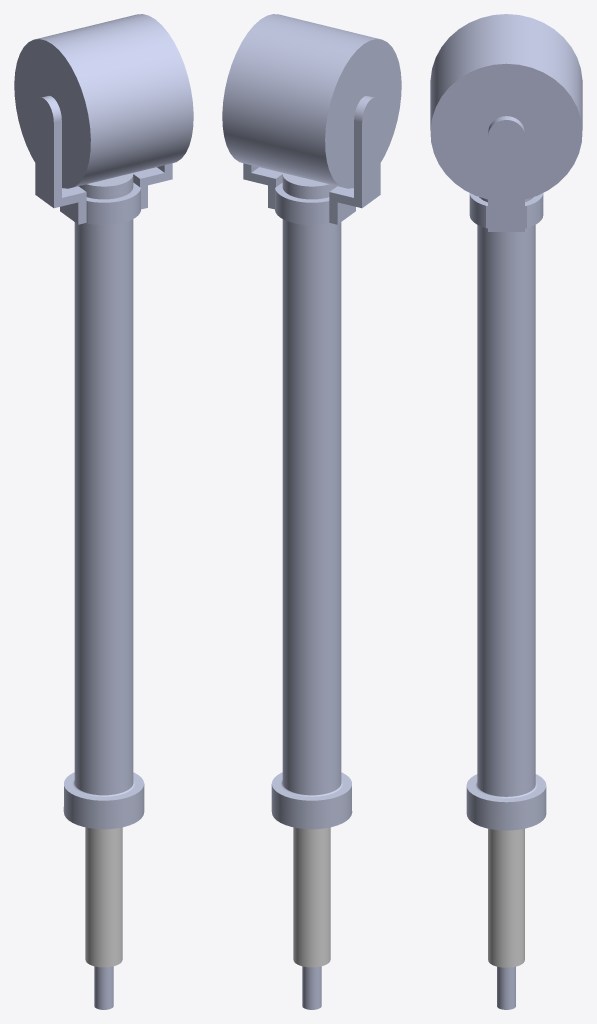
The picture shows the model from 3 angles, left to right: view 1: azimuth 30°, elevation 25°; view 2: azimuth 150°, elevation 25°; view 3: azimuth 270°, elevation 25°; orthographic projection.
Visible parts, largest first — view 1: _ncl1_6, FBXASC0485, _ncl1_4, _ncl1_2; view 2: _ncl1_6, FBXASC0485, _ncl1_4, _ncl1_2; view 3: _ncl1_6, FBXASC0485, _ncl1_4, _ncl1_2.
Part boxes in pixels (bbox=[...]): _ncl1_6: bbox=[74, 173, 133, 1009]; FBXASC0485: bbox=[14, 14, 193, 224]; _ncl1_4: bbox=[85, 827, 122, 967]; _ncl1_2: bbox=[63, 772, 144, 829]; _ncl1_6: bbox=[282, 173, 341, 1009]; FBXASC0485: bbox=[222, 14, 401, 224]; _ncl1_4: bbox=[293, 827, 330, 967]; _ncl1_2: bbox=[271, 772, 352, 829]; _ncl1_6: bbox=[477, 197, 535, 1009]; FBXASC0485: bbox=[430, 14, 582, 231]; _ncl1_4: bbox=[488, 828, 524, 967]; _ncl1_2: bbox=[466, 774, 546, 830].
Size of the model in its own units: 0.222 by 1.74 by 0.2478.
